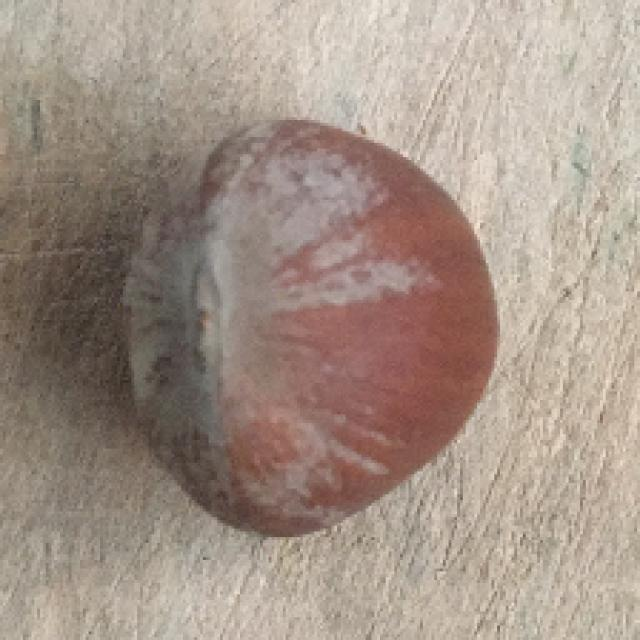qualityHazelnut: (121, 117, 500, 540)
